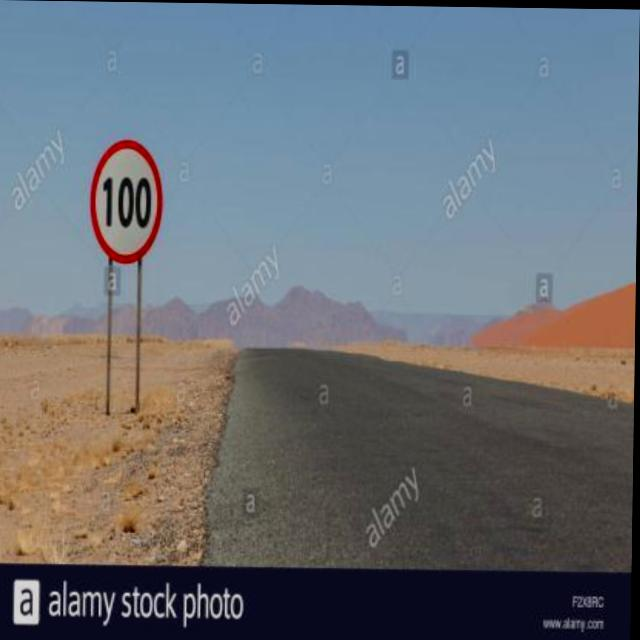limit100: (86, 133, 171, 269)
